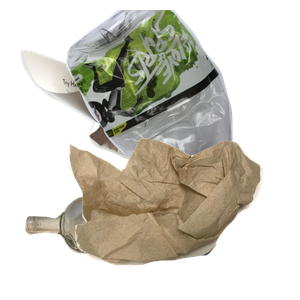glass: (22, 192, 234, 300)
paper: (18, 30, 213, 210)
plastic: (64, 10, 300, 190)
trash: (67, 136, 300, 300)
